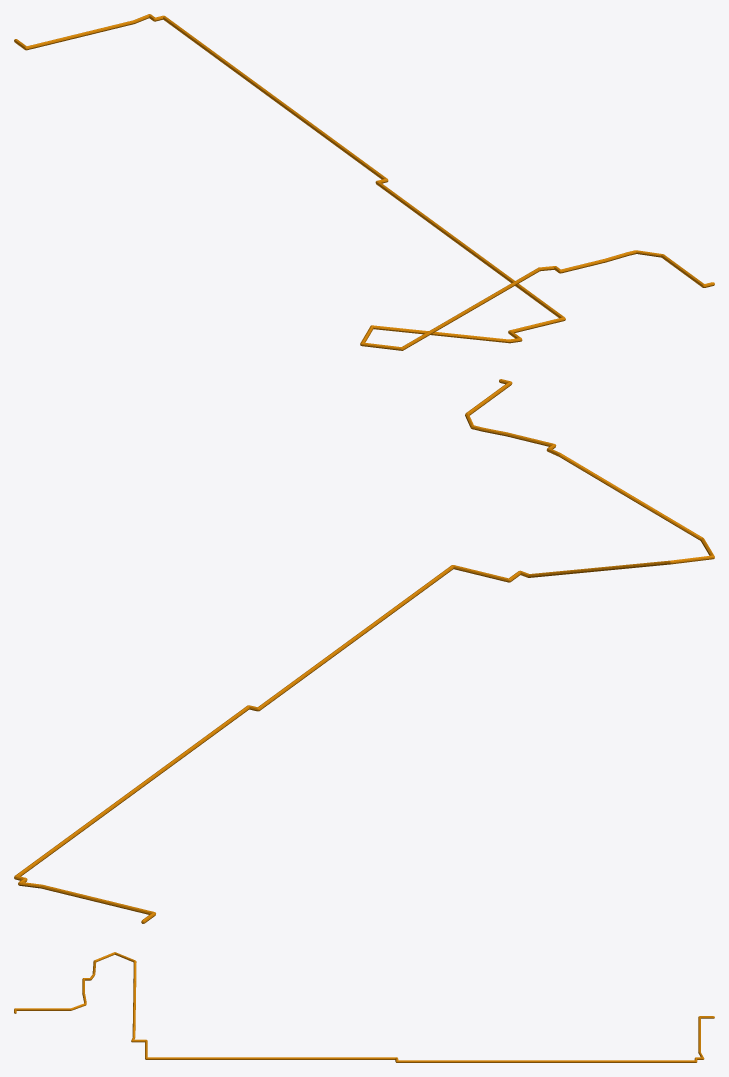
3 renders of one model, top to bottom at view 1: azimuth 30°, elevation 25°; view 2: azimuth 150°, elevation 25°; view 3: azimuth 270°, elevation 25°, orthographic. The views are drawn at different scales.
Size of the model in its own units: 1563 by 520 by 5037.
